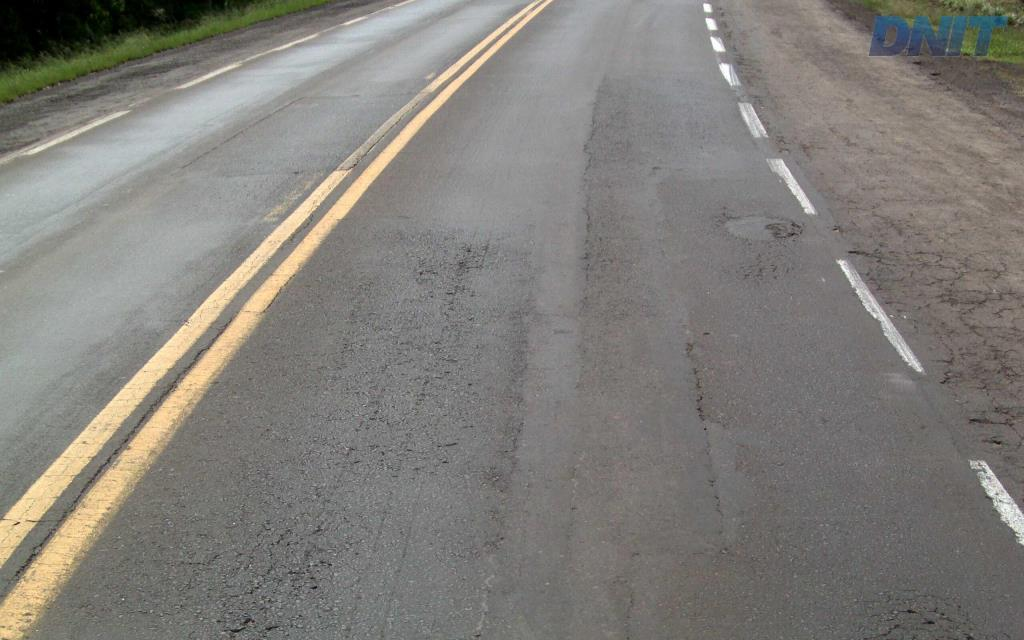crack: (215, 526, 332, 622), (164, 549, 226, 581)
